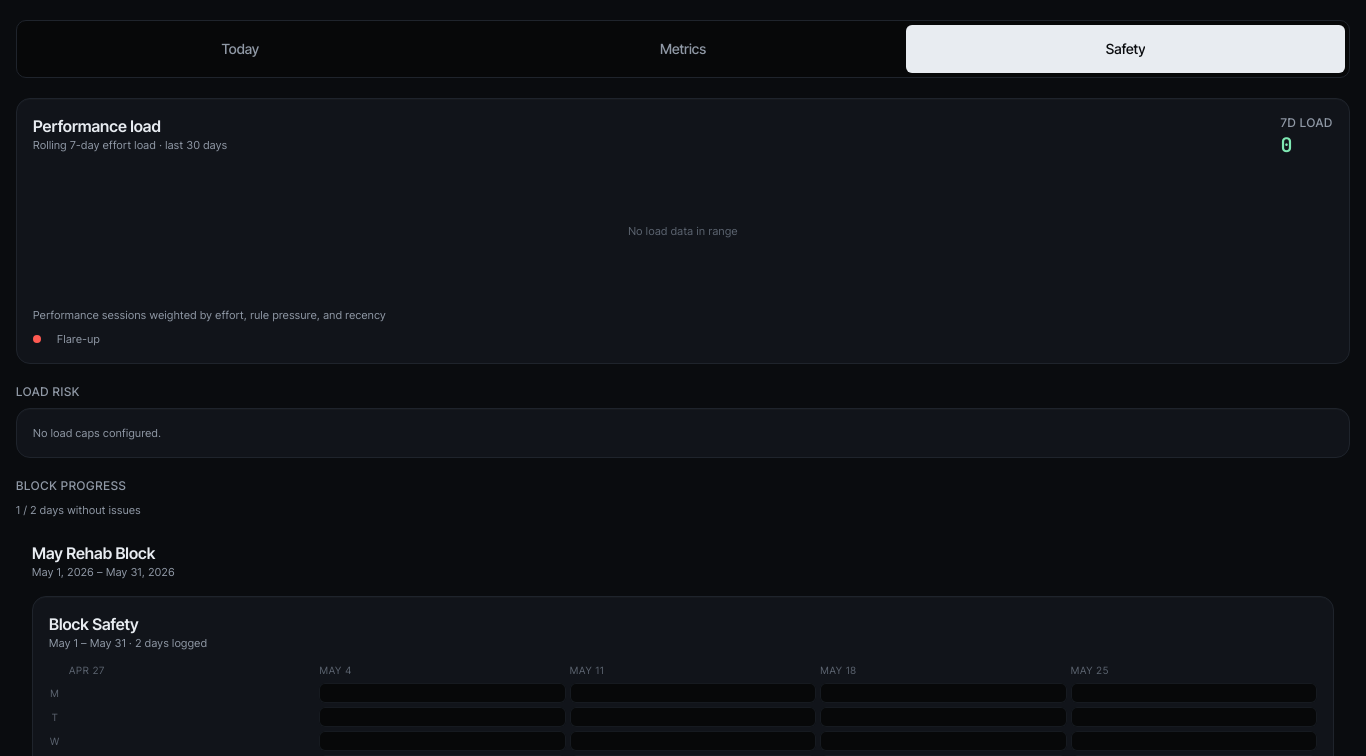
DashboardScreen — S25.F2 Goals card › renders GoalsCard below This week when engine.goalRows has entries
What coordinates should you click on to do the following:
click the radio button labelled "Metrics"
I would click on:
 (683, 49)
Its box is 464,25 -> 902,73.
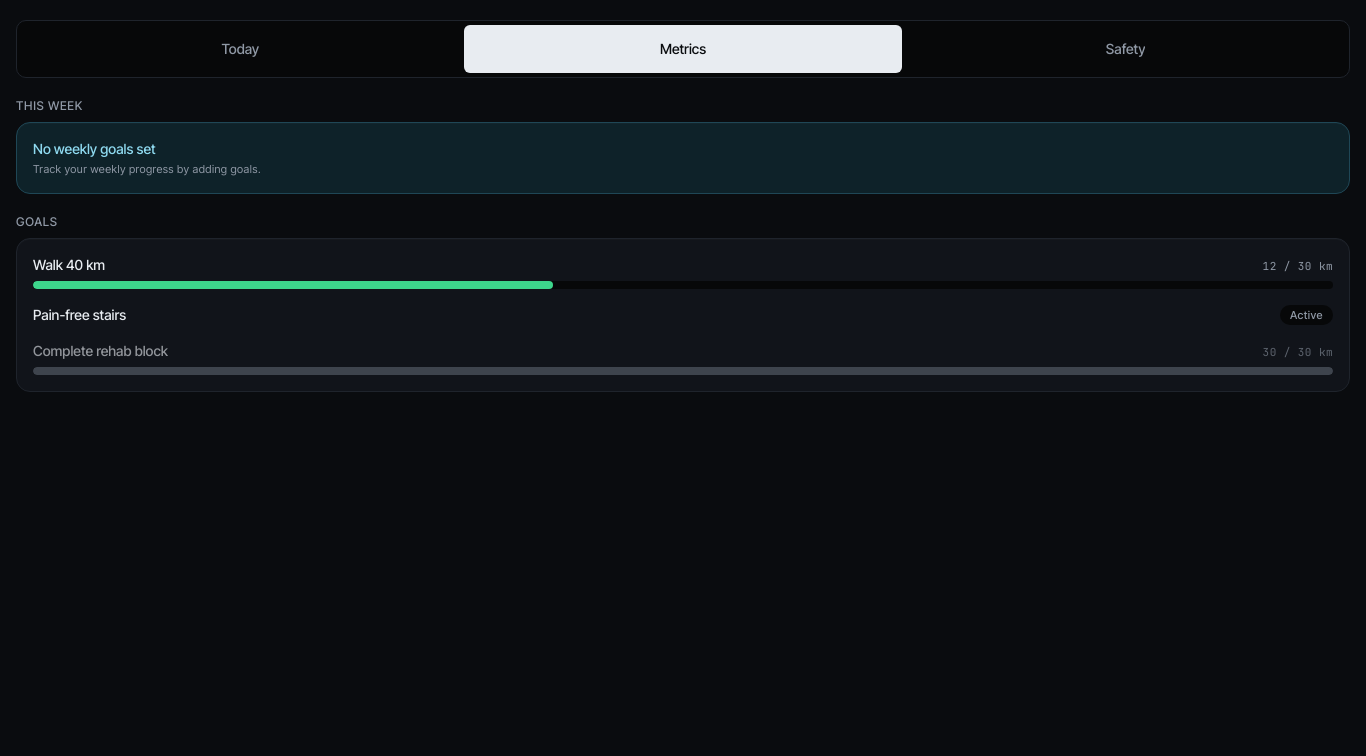
Expected: the text "Walk 40 km" is shown, 33,255 -> 105,275
Expected: the text "Pain-free stairs" is shown, 33,305 -> 126,325
Expected: the text "Complete rehab block" is shown, 33,341 -> 168,361
